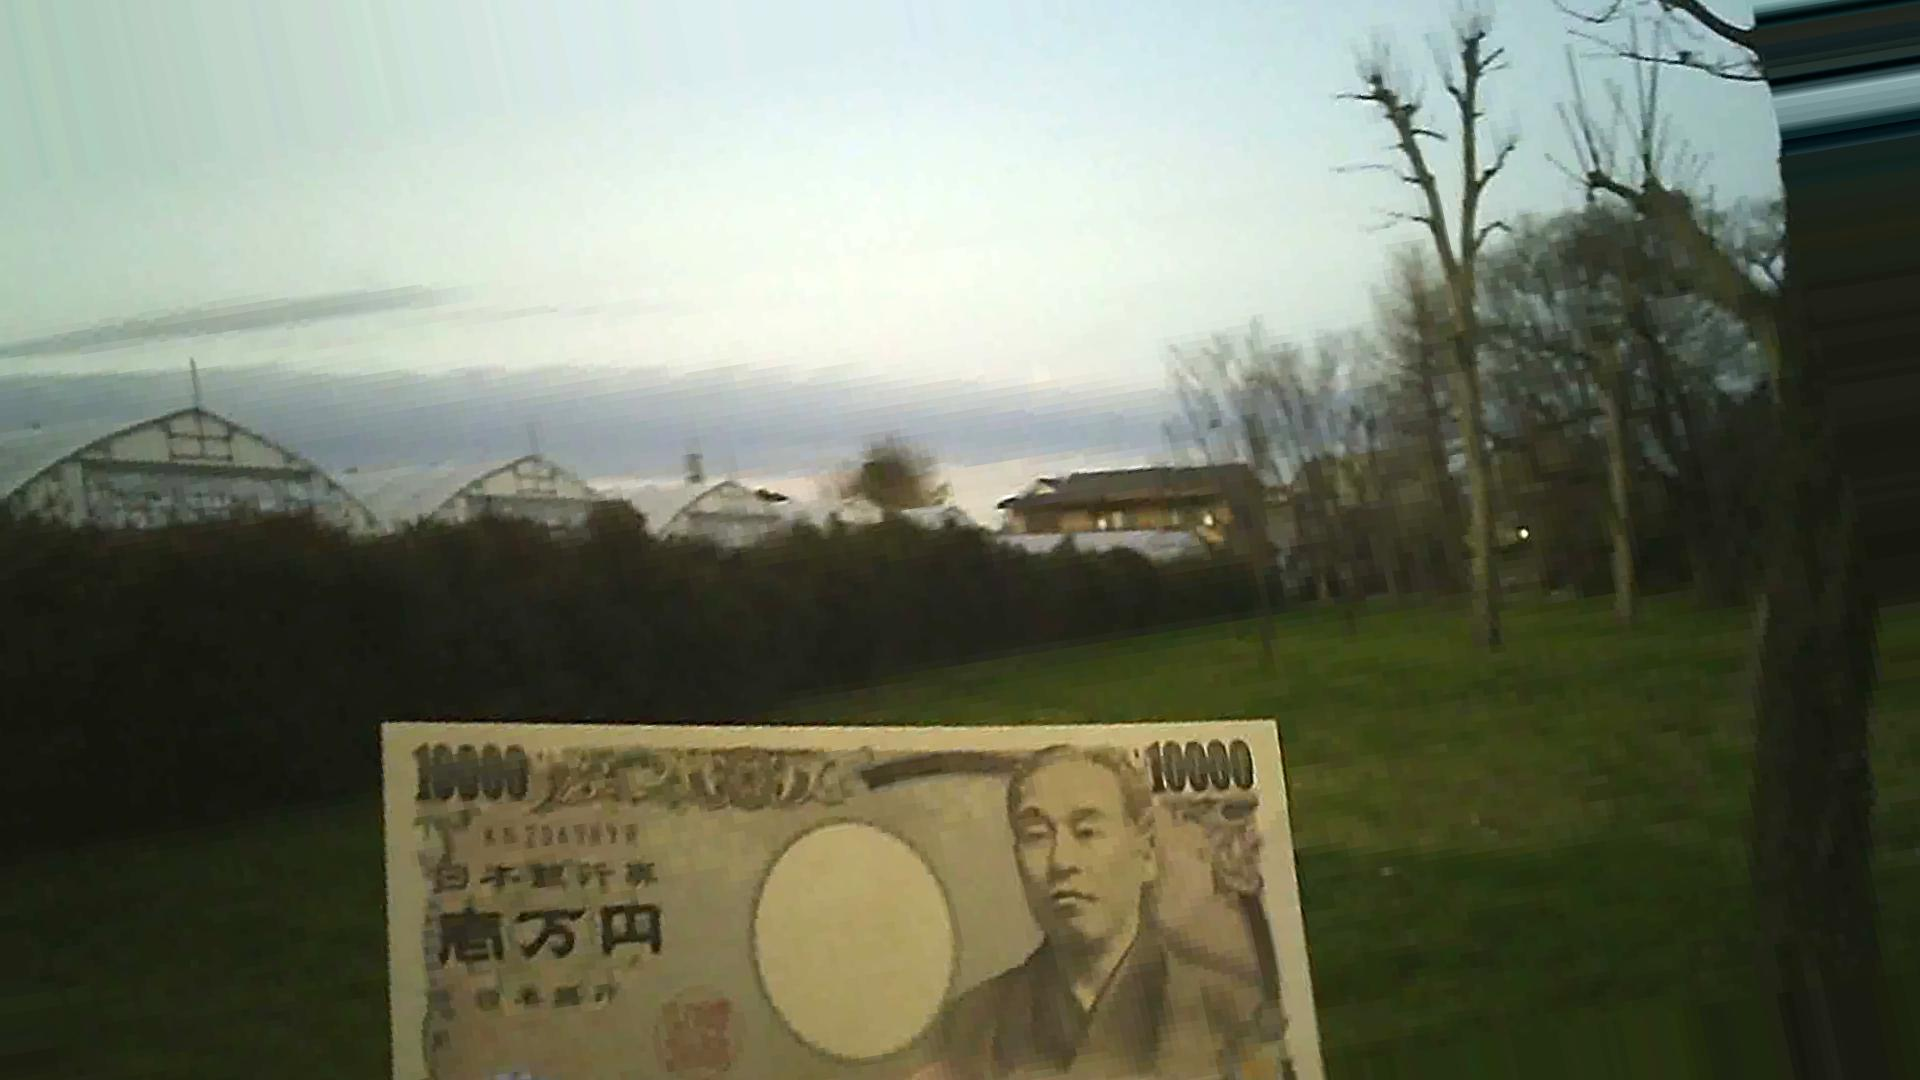10,000 Yen: (342, 694, 1338, 1079)
